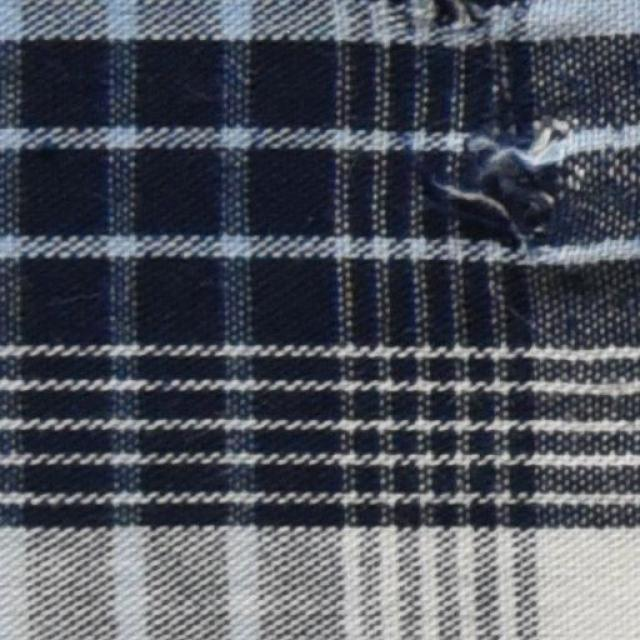Snag: (452, 111, 588, 253), (417, 0, 521, 59)
